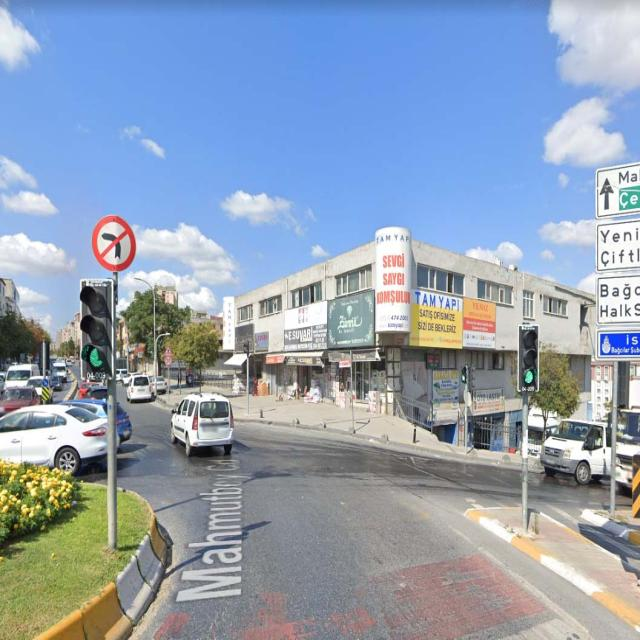soladonulmez: (92, 215, 137, 270)
yesil: (80, 280, 112, 380), (519, 322, 538, 392)
